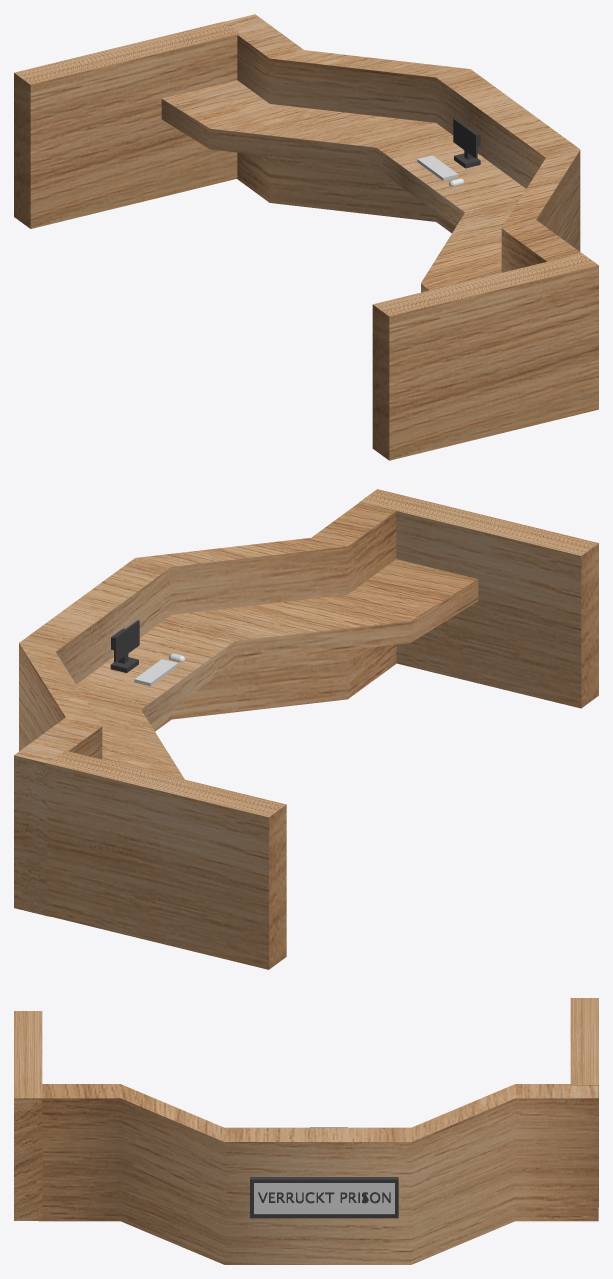
Rendered from Front Desk Prison.fbx.
3 renders of one model, top to bottom at view 1: azimuth 30°, elevation 25°; view 2: azimuth 150°, elevation 25°; view 3: azimuth 270°, elevation 25°, orthographic. The views are drawn at different scales.
Parts seen in each view (by area): view 1: pCube20, pCube30, pCube28, pCube21; view 2: pCube20, pCube28, pCube30, pCube21; view 3: pCube20, polySurface185, pCube30, pCube28.
Boxes of the visible parts, x1=… form: pCube20: x1=161, y1=14, x2=581, y2=292; pCube30: x1=372, y1=253, x2=598, y2=460; pCube28: x1=14, y1=21, x2=239, y2=228; pCube21: x1=453, y1=118, x2=477, y2=158; pCube20: x1=14, y1=502, x2=478, y2=916; pCube28: x1=47, y1=750, x2=286, y2=969; pCube30: x1=360, y1=489, x2=598, y2=708; pCube21: x1=114, y1=620, x2=139, y2=662; pCube20: x1=39, y1=1084, x2=598, y2=1264; polySurface185: x1=250, y1=1177, x2=398, y2=1218; pCube30: x1=14, y1=1011, x2=42, y2=1220; pCube28: x1=570, y1=998, x2=598, y2=1207.
Bounding box in the file's own units: 31.13 × 12.2 × 52.56.
